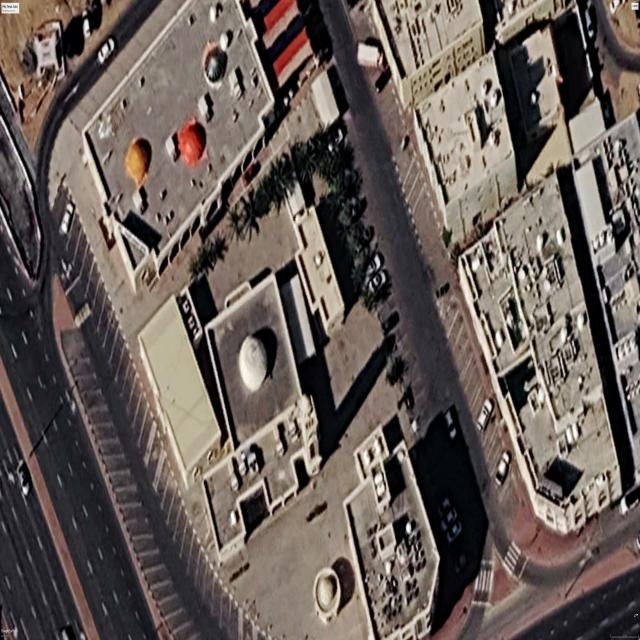mosque: (204, 274, 321, 563)
